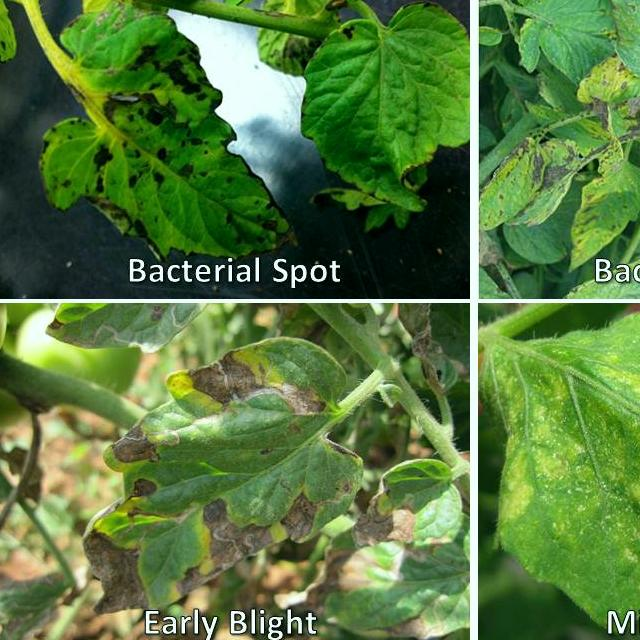Tomato Early blight leaf: (51, 331, 380, 609), (19, 2, 301, 280), (291, 0, 470, 254), (495, 0, 639, 86), (566, 123, 640, 290), (490, 135, 585, 248), (586, 0, 640, 112)
